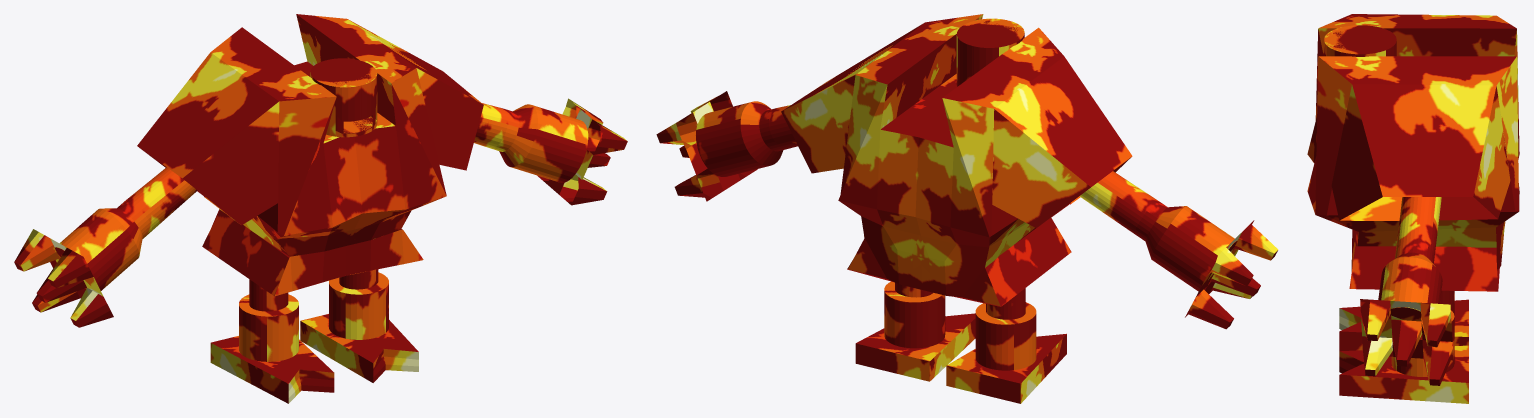
The model's file is GOLEMREAL_LAVA_TEXT_mejora22222.fbx.
The picture shows the model from 3 angles, left to right: view 1: azimuth 30°, elevation 25°; view 2: azimuth 150°, elevation 25°; view 3: azimuth 270°, elevation 25°; orthographic projection. The views are drawn at different scales.
Visible parts, largest first — view 1: Cube; view 2: Cube; view 3: Cube.
Boxes of the visible parts, x1,y1,x2,y2 form: Cube: (14,14,627,403); Cube: (656,14,1278,403); Cube: (1307,14,1519,403).
Size of the model in its own units: 20.12 by 10.1 by 6.02.
